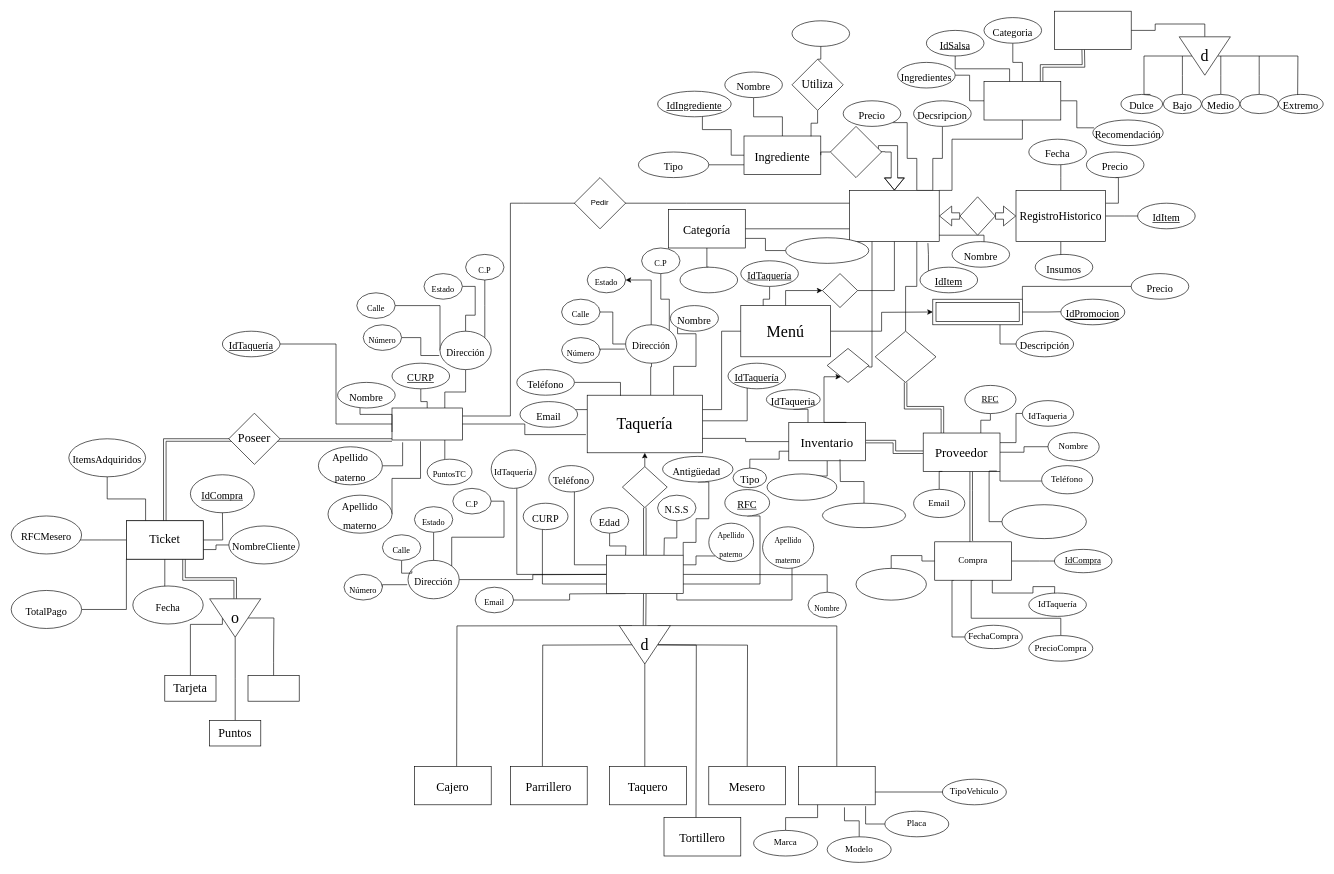
This 1334x874 diagram has some shape labels left out. Here are the shapes that lost their labels. From the top down, the box of each, then its label:
(791, 20, 850, 46): Cantidad
(1054, 11, 1131, 50): Picor
(983, 81, 1061, 120): Salsa
(1239, 94, 1278, 114): Alto
(830, 126, 882, 178): Utilizar
(849, 190, 939, 242): Item
(959, 196, 995, 235): Tiene
(785, 237, 869, 263): NombreCategoria
(679, 267, 738, 293): IdCategoria
(822, 273, 858, 308): Ordena
(932, 299, 1022, 325): Promociones
(827, 348, 869, 382): Contiene
(875, 331, 936, 382): Provee
(391, 407, 462, 440): Cliente
(622, 466, 667, 508): Trabajar
(766, 473, 837, 500): IdInventario
(822, 503, 906, 528): CantidadRestante
(1001, 504, 1086, 539): DescripcionServicio
(606, 555, 683, 594): Empleado
(855, 568, 926, 600): FechaCaducidad
(247, 675, 299, 701): Efectivo
(798, 766, 875, 805): Repartidor
